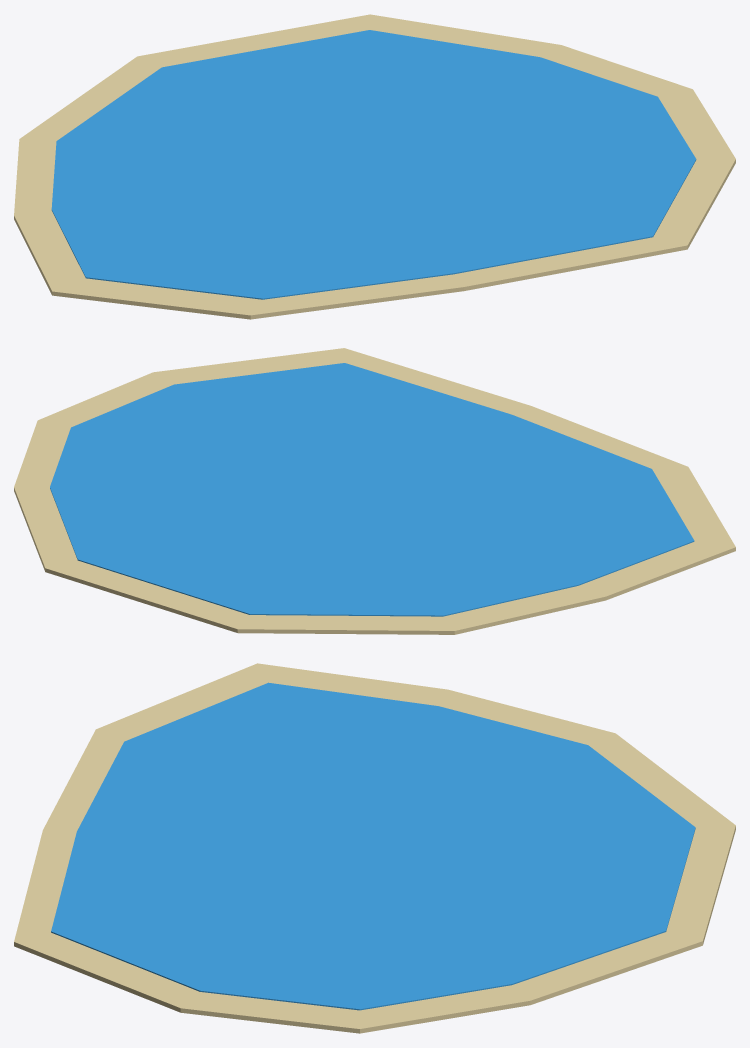
File: lago_v1.glb
3 views of the same model, one above another, from view 1: azimuth 30°, elevation 25°; view 2: azimuth 150°, elevation 25°; view 3: azimuth 270°, elevation 25° (orthographic). The views are drawn at different scales.
Parts seen in each view (by area): view 1: agua, orilla; view 2: agua, orilla; view 3: agua, orilla.
Boxes of the visible parts, left/top/right/bottom form: agua: left=51, top=30, right=696, bottom=299; orilla: left=14, top=14, right=735, bottom=319; agua: left=50, top=363, right=694, bottom=616; orilla: left=14, top=348, right=735, bottom=634; agua: left=51, top=682, right=695, bottom=1010; orilla: left=14, top=663, right=735, bottom=1033.
Bounding box in the file's own units: 13.94 × 0.101 × 11.63.
